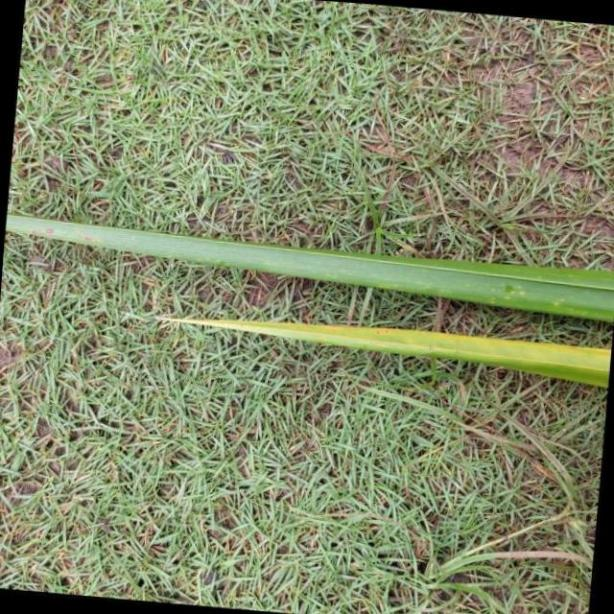nitrogen: (1, 207, 614, 321), (121, 305, 614, 386)
